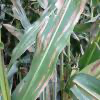Corn leaf blight: (10, 0, 89, 99), (6, 2, 50, 72), (65, 74, 99, 99)
